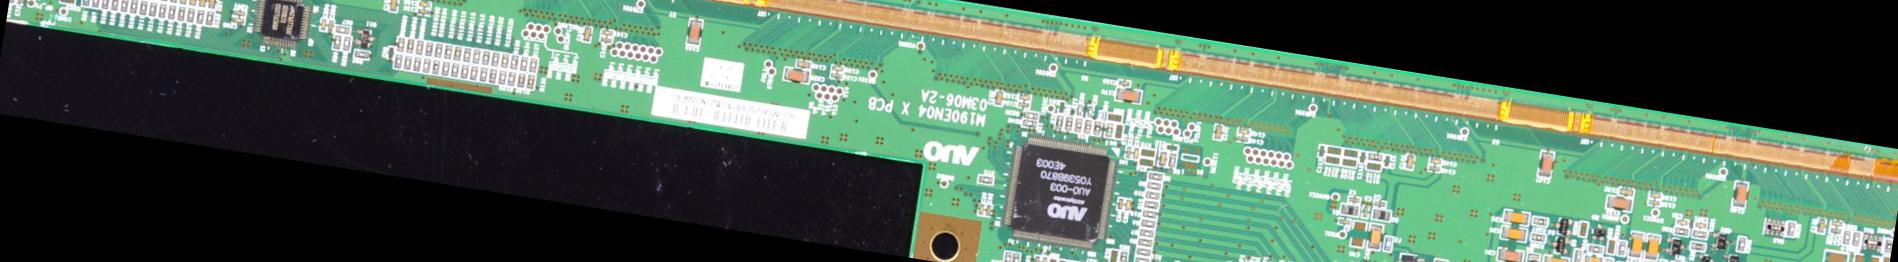Capacitor Jumper: (684, 17, 703, 46), (1536, 148, 1554, 178), (782, 67, 811, 85), (1114, 86, 1144, 103), (1644, 234, 1662, 262), (1500, 224, 1528, 243), (1501, 207, 1530, 224), (1628, 230, 1645, 260), (1605, 194, 1633, 211), (1732, 180, 1748, 207), (1496, 247, 1525, 261), (1818, 249, 1848, 261), (1369, 226, 1382, 250), (991, 89, 1005, 106), (1212, 123, 1224, 139), (1543, 254, 1570, 261), (1817, 217, 1828, 234), (1404, 153, 1415, 170), (581, 25, 592, 42), (1085, 103, 1095, 119), (1157, 150, 1168, 166), (1235, 133, 1250, 143), (318, 16, 328, 32), (389, 0, 399, 13), (1017, 99, 1031, 109), (231, 15, 246, 24), (1116, 78, 1131, 87), (796, 59, 812, 68), (416, 0, 432, 8), (1131, 146, 1139, 161), (1122, 198, 1131, 213), (1237, 126, 1250, 136), (1428, 156, 1443, 165), (830, 63, 845, 72), (1829, 227, 1844, 235), (1647, 198, 1662, 206), (599, 34, 614, 42), (829, 72, 844, 80), (416, 7, 431, 16), (1373, 200, 1387, 209), (984, 203, 993, 217), (977, 201, 985, 216), (1427, 165, 1443, 172), (1123, 143, 1131, 159), (1018, 92, 1031, 101), (600, 28, 614, 36), (1076, 103, 1085, 116), (196, 0, 209, 8), (1647, 190, 1662, 198), (1058, 99, 1065, 114), (207, 0, 218, 10), (1347, 195, 1362, 203), (1338, 218, 1352, 226), (1116, 196, 1123, 211), (1584, 255, 1601, 261), (232, 8, 246, 16), (386, 46, 393, 59), (1830, 220, 1842, 227), (327, 18, 333, 32), (188, 0, 199, 7), (15, 0, 25, 6), (177, 0, 190, 5), (1033, 254, 1041, 261), (1039, 256, 1048, 261), (167, 0, 178, 4)
IC: (1001, 132, 1118, 250), (249, 0, 315, 51), (1764, 217, 1785, 238), (1863, 234, 1883, 252), (1396, 251, 1424, 261)
Resistor Jumper: (977, 172, 995, 187), (1146, 170, 1164, 182), (1137, 227, 1155, 239), (422, 40, 435, 57), (514, 72, 527, 89), (1141, 199, 1160, 210), (1140, 209, 1158, 220), (527, 57, 539, 73), (330, 34, 343, 50), (477, 67, 489, 82), (1787, 220, 1798, 237), (333, 23, 350, 34), (1532, 215, 1549, 226), (395, 35, 406, 52), (499, 52, 510, 69), (489, 51, 500, 68), (1530, 232, 1547, 243), (353, 49, 370, 59), (412, 56, 422, 73), (430, 58, 441, 75), (525, 74, 536, 91), (1137, 237, 1154, 247), (1108, 247, 1121, 261), (1167, 152, 1177, 170), (1368, 150, 1384, 161), (1852, 230, 1863, 246), (1104, 123, 1115, 138), (1674, 226, 1690, 237), (487, 68, 497, 84), (506, 72, 517, 87), (467, 65, 478, 81), (449, 62, 460, 78), (1883, 237, 1892, 256), (1020, 119, 1037, 129), (1139, 148, 1156, 158), (1138, 156, 1155, 166), (461, 45, 471, 62), (404, 38, 414, 55), (471, 47, 481, 64), (510, 53, 519, 70), (443, 42, 453, 59), (481, 49, 490, 65), (1617, 239, 1627, 256), (1588, 244, 1605, 254), (421, 57, 431, 74), (402, 55, 412, 72), (460, 63, 470, 80), (392, 52, 402, 69), (1145, 180, 1162, 189), (1144, 189, 1161, 199), (1139, 218, 1156, 228), (1135, 247, 1152, 257), (1081, 119, 1092, 133), (452, 46, 462, 61), (1093, 120, 1103, 136), (1064, 115, 1074, 131), (1692, 229, 1708, 239), (1736, 235, 1745, 251), (157, 2, 167, 18), (195, 8, 205, 24), (148, 1, 157, 17), (138, 0, 148, 16), (341, 35, 351, 51), (496, 69, 506, 85), (441, 61, 450, 76), (109, 0, 121, 12), (1053, 115, 1064, 129), (119, 0, 130, 13), (519, 55, 528, 72), (1384, 234, 1392, 251), (1072, 118, 1082, 132), (128, 0, 138, 15), (1842, 229, 1851, 245), (1023, 110, 1039, 119), (1691, 241, 1707, 250), (414, 39, 422, 55), (435, 42, 443, 58), (176, 5, 184, 21), (185, 8, 195, 22), (167, 5, 176, 19), (205, 11, 213, 25), (1117, 250, 1128, 261), (1574, 249, 1583, 261), (58, 0, 76, 6), (100, 0, 111, 10), (1010, 251, 1020, 261), (1002, 250, 1012, 261), (79, 0, 91, 8), (1134, 255, 1151, 261), (90, 0, 100, 8), (8, 0, 18, 6), (1601, 257, 1614, 261)
Transistor: (360, 30, 369, 47)
